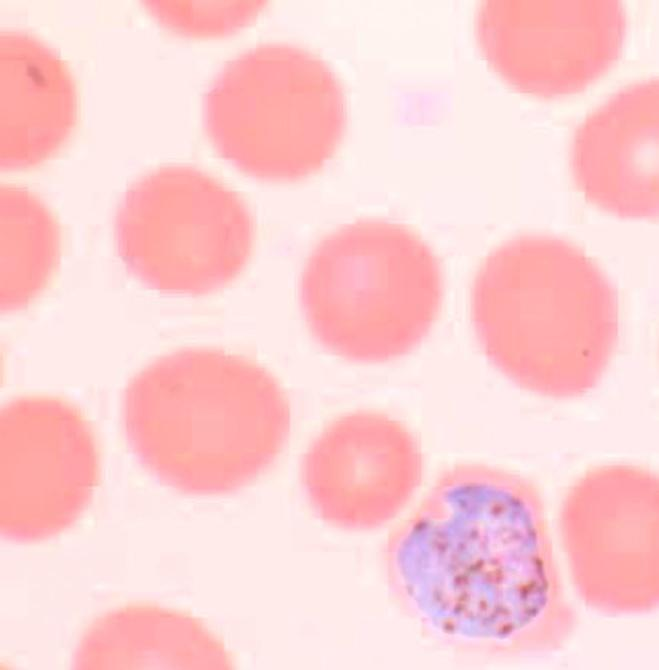Infected: (387, 460, 577, 659)
Uninfected: (473, 233, 622, 399), (124, 349, 291, 490), (303, 219, 441, 358), (204, 40, 340, 178), (113, 169, 257, 295), (307, 412, 423, 531)
